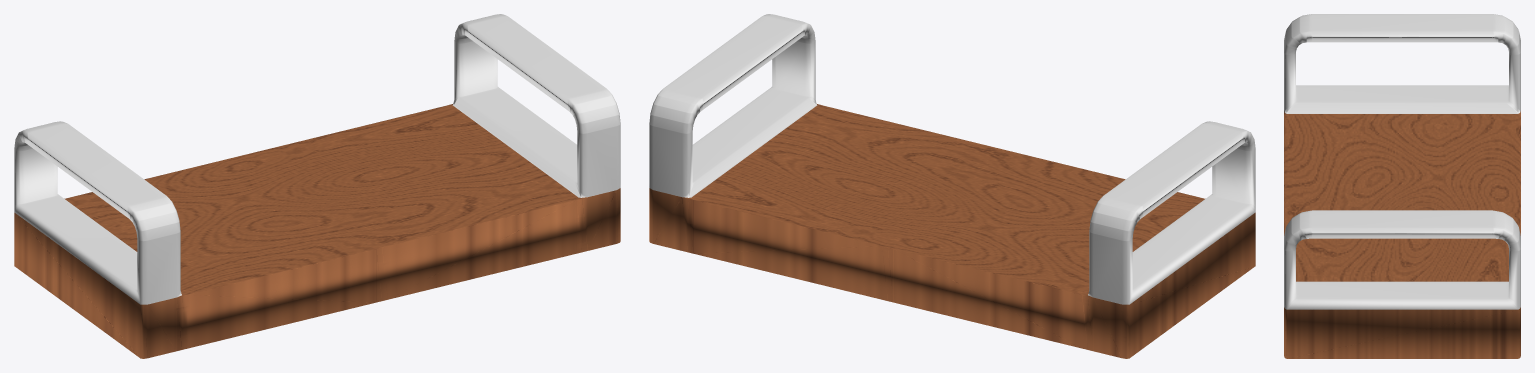
Rendered from tempatBarang.fbx.
The picture shows the model from 3 angles, left to right: view 1: azimuth 30°, elevation 25°; view 2: azimuth 150°, elevation 25°; view 3: azimuth 270°, elevation 25°; orthographic projection. The views are drawn at different scales.
Visible parts, largest first — view 1: Cube.001; view 2: Cube.001; view 3: Cube.001.
Boxes of the visible parts, x1,y1,x2,y2 form: Cube.001: (14,14,620,358); Cube.001: (649,14,1255,358); Cube.001: (1284,14,1520,358).
Size of the model in its own units: 6000 by 1709 by 2800.
